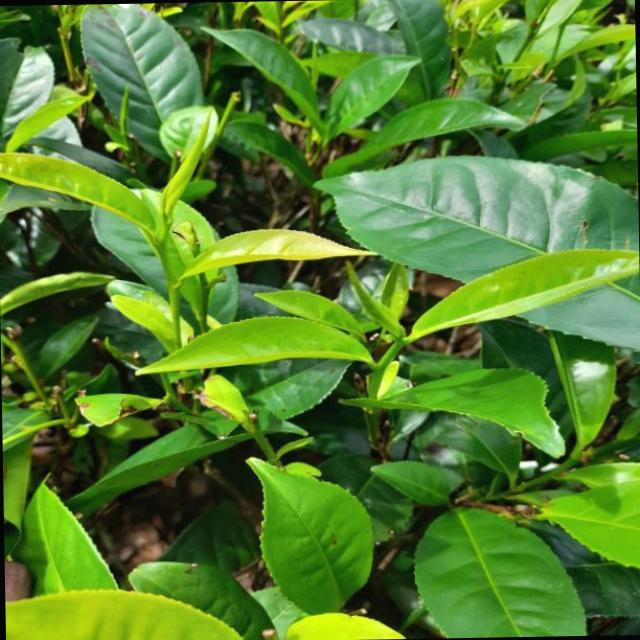Stem: (155, 242, 166, 253), (396, 339, 404, 347)
